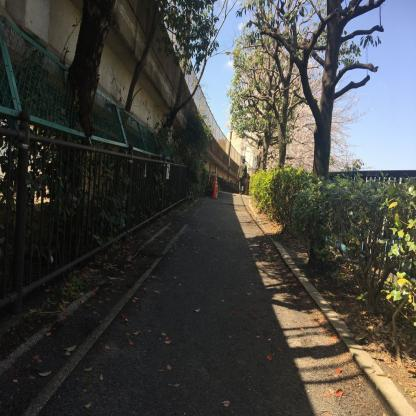Someiyoshino: (240, 34, 378, 190)
